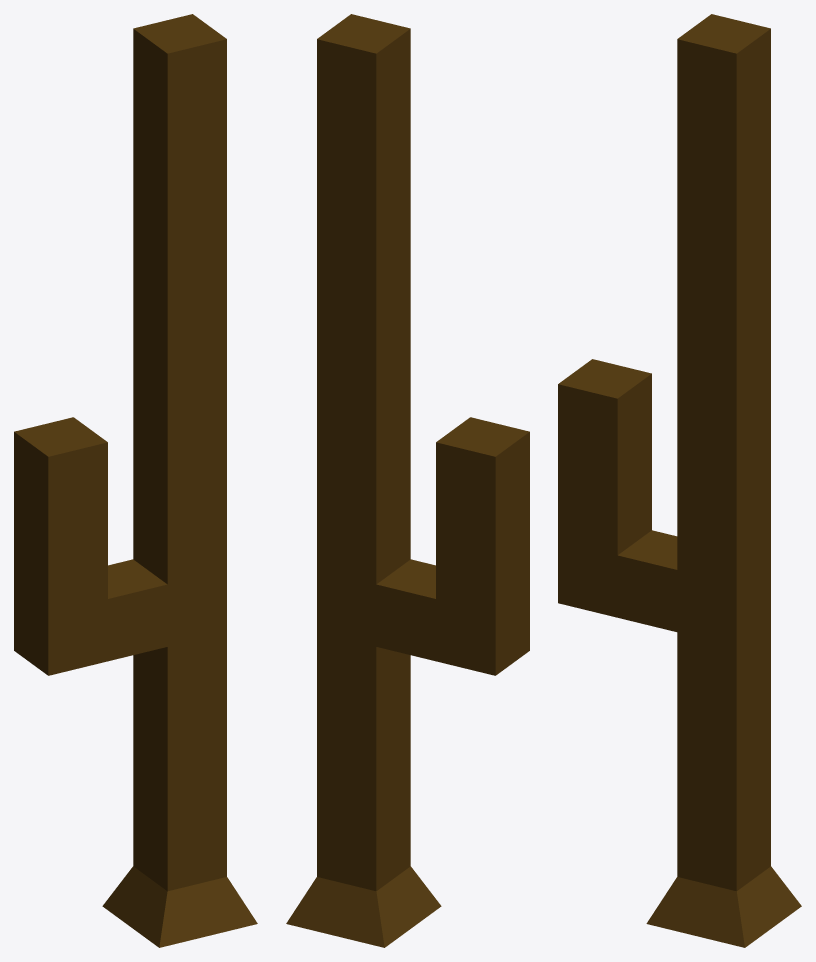
Rendered from forest1(no leaves).fbx.
3 views of the same model, side by side, from view 1: azimuth 30°, elevation 25°; view 2: azimuth 150°, elevation 25°; view 3: azimuth 330°, elevation 25° (orthographic).
Parts seen in each view (by area): view 1: forest1(no leaves); view 2: forest1(no leaves); view 3: forest1(no leaves).
Part boxes in pixels (box(x1,y1,x2,y2)): forest1(no leaves): box(14, 14, 257, 947); forest1(no leaves): box(286, 14, 529, 947); forest1(no leaves): box(558, 14, 801, 947).
Bounding box in the file's own units: 216 × 917 × 107.
1 material, 1 textured.
